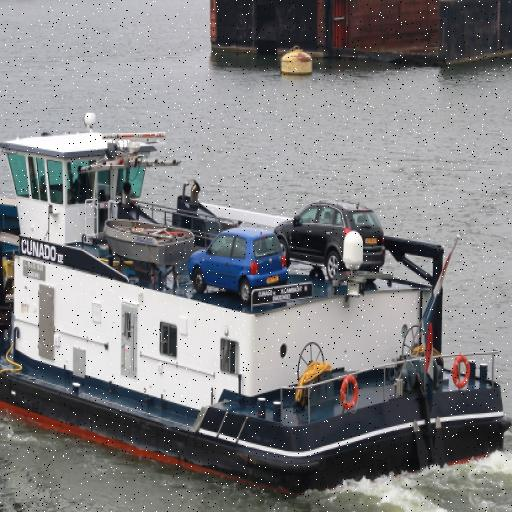tugboat: (1, 106, 512, 512)
